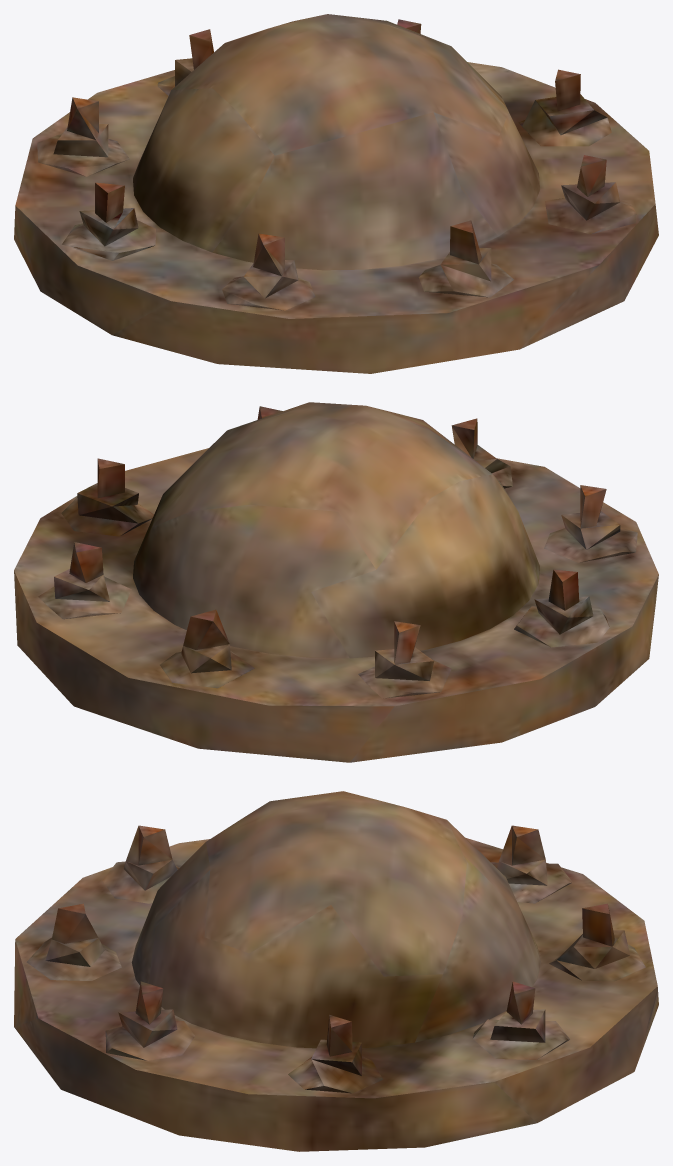
The model's file is old_pipe_12.glb.
3 renders of one model, top to bottom at view 1: azimuth 30°, elevation 25°; view 2: azimuth 150°, elevation 25°; view 3: azimuth 270°, elevation 25°, orthographic.
Visible parts, largest first — view 1: old_pipe_12; view 2: old_pipe_12; view 3: old_pipe_12.
Boxes of the visible parts, left/top/right/bottom form: old_pipe_12: left=14, top=14, right=658, bottom=373; old_pipe_12: left=14, top=402, right=658, bottom=762; old_pipe_12: left=14, top=791, right=658, bottom=1151.
Size of what is drawn, in the model's own units: 0.0841 by 0.0296 by 0.0844.
1 material, 1 textured.
